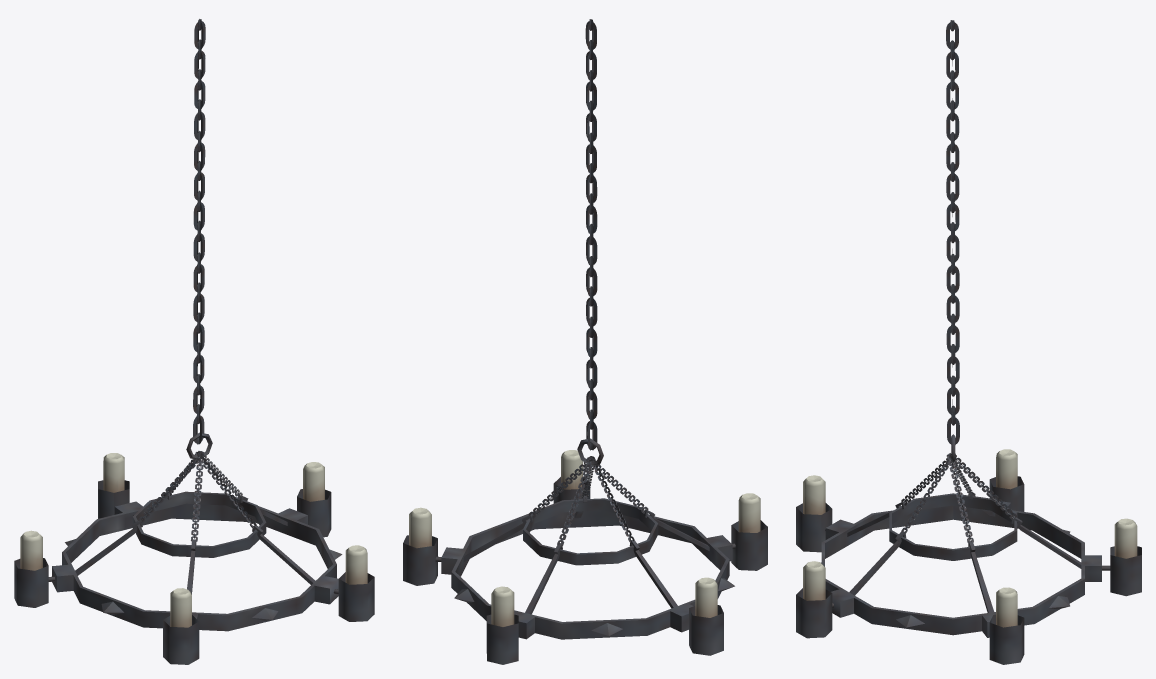
File: SM_Chandelier.fbx
3 views of the same model, side by side, from view 1: azimuth 30°, elevation 25°; view 2: azimuth 150°, elevation 25°; view 3: azimuth 270°, elevation 25° (orthographic).
Parts seen in each view (by area): view 1: SM_Chandelier; view 2: SM_Chandelier; view 3: SM_Chandelier.
Boxes of the visible parts, left/top/right/bottom form: SM_Chandelier: left=14, top=19, right=374, bottom=664; SM_Chandelier: left=403, top=19, right=767, bottom=664; SM_Chandelier: left=796, top=20, right=1141, bottom=664.
Bounding box in the file's own units: 554 × 957 × 528.
